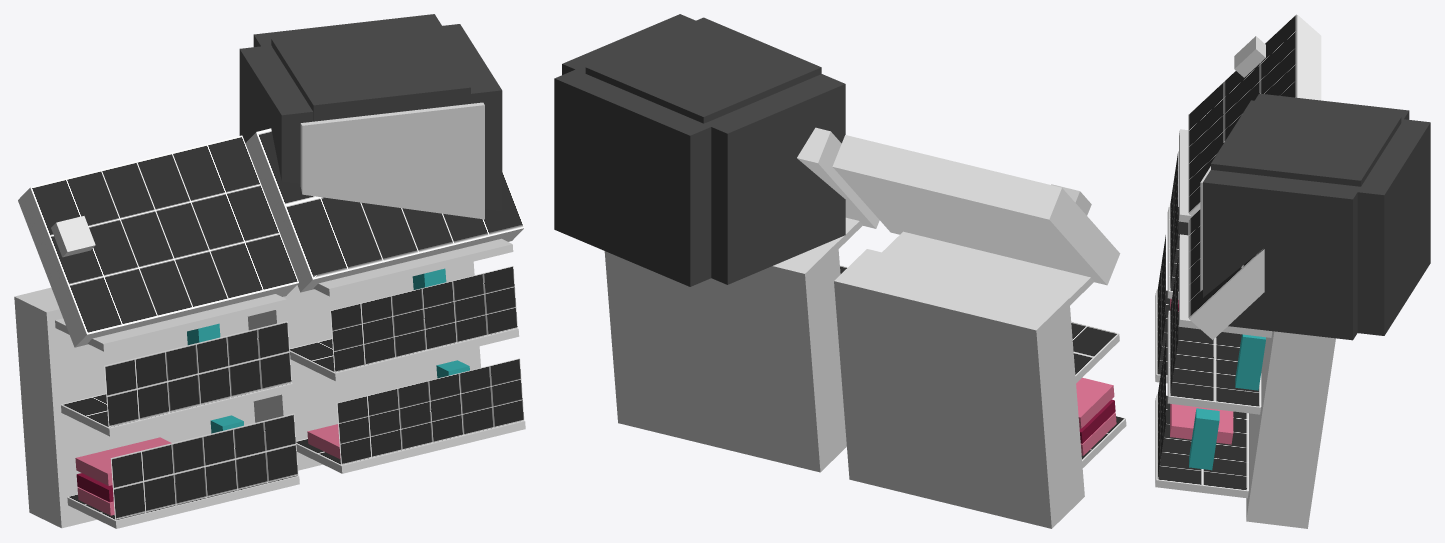
File: cooker_movement_test.gltf
3 renders of one model, left to right at view 1: azimuth 30°, elevation 25°; view 2: azimuth 150°, elevation 25°; view 3: azimuth 270°, elevation 25°, orthographic. The views are drawn at different scales.
Parts seen in each view (by area): view 1: GridPlane, BackgroundBlock2, MeshInstance3D2, CookerBody26, GridPlane2, TopTexture2, TopTexture4, TopTexture3, TopTexture, BackgroundBlock, CookerBody27, CookerBody28 (+15 smaller); view 2: BackgroundBlock2, BackgroundBlock, CookerBody29, CookerBody2, CookerBody27, CookerBody26, Block5, CookerBody22, CookerBody28, BottomTexture3, TempMesh7; view 3: CookerBody28, BackgroundBlock, CookerBody29, CookerBody26, GridPlane, BottomTexture, BottomTexture2, CookerBody22, CookerBody2, GridPlane2, TempMesh2, TempMesh3 (+14 smaller).
Boxes of the visible parts, left/top/right/bottom form: GridPlane: left=30, top=135, right=298, bottom=334; BackgroundBlock2: left=14, top=287, right=255, bottom=528; MeshInstance3D2: left=300, top=102, right=484, bottom=219; CookerBody26: left=271, top=21, right=470, bottom=121; GridPlane2: left=256, top=128, right=524, bottom=279; TopTexture2: left=336, top=358, right=524, bottom=464; TopTexture4: left=110, top=413, right=298, bottom=519; TopTexture3: left=104, top=321, right=291, bottom=427; TopTexture: left=330, top=266, right=517, bottom=372; BackgroundBlock: left=248, top=261, right=480, bottom=470; CookerBody27: left=239, top=46, right=313, bottom=183; CookerBody28: left=433, top=24, right=502, bottom=211; BackgroundBlock2: left=834, top=249, right=1084, bottom=528; BackgroundBlock: left=604, top=240, right=846, bottom=472; CookerBody29: left=554, top=68, right=713, bottom=286; CookerBody2: left=832, top=135, right=1120, bottom=285; CookerBody27: left=707, top=74, right=845, bottom=284; CookerBody26: left=585, top=17, right=821, bottom=123; Block5: left=882, top=231, right=1094, bottom=305; CookerBody22: left=797, top=127, right=879, bottom=228; CookerBody28: left=562, top=14, right=695, bottom=74; BottomTexture3: left=1071, top=321, right=1118, bottom=375; TempMesh7: left=1076, top=377, right=1114, bottom=428; CookerBody28: left=1203, top=170, right=1358, bottom=340; BackgroundBlock: left=1246, top=331, right=1335, bottom=528; CookerBody29: left=1354, top=119, right=1430, bottom=335; CookerBody26: left=1211, top=100, right=1401, bottom=186; GridPlane: left=1188, top=14, right=1296, bottom=212; BottomTexture: left=1168, top=310, right=1261, bottom=406; BottomTexture2: left=1156, top=394, right=1248, bottom=490; CookerBody22: left=1189, top=249, right=1264, bottom=339; CookerBody2: left=1189, top=15, right=1321, bottom=216; GridPlane2: left=1188, top=209, right=1262, bottom=317; TempMesh2: left=1189, top=408, right=1219, bottom=470; TempMesh3: left=1170, top=404, right=1233, bottom=444.
Size of the model in its own units: 1.63 by 1.24 by 0.8858.
Materials: 18 (11 with a texture image).
